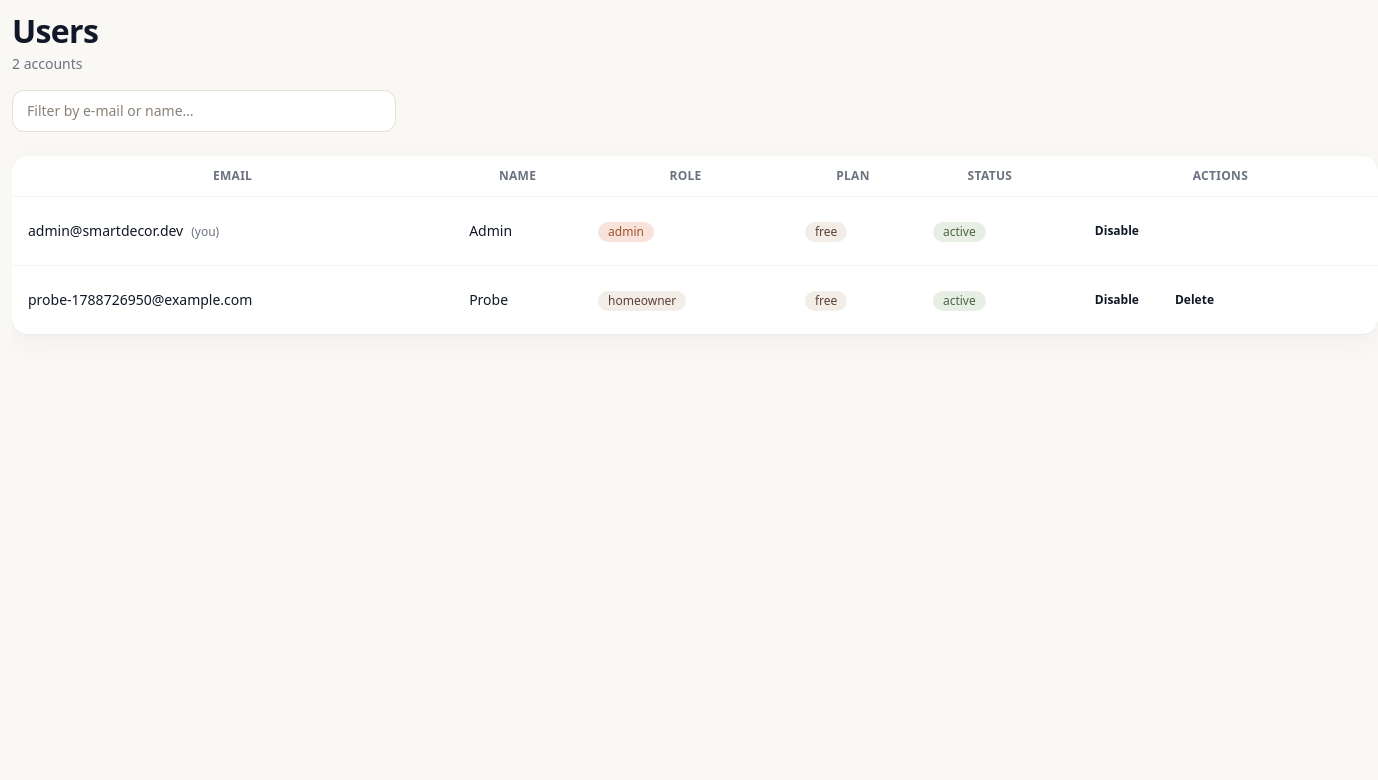
AdminUsersPage — delete › falls back to a generic message for unexpected failures
Click the button with aria-label "delete probe". click: (1194, 300)
box: [1159,278,1230,322]
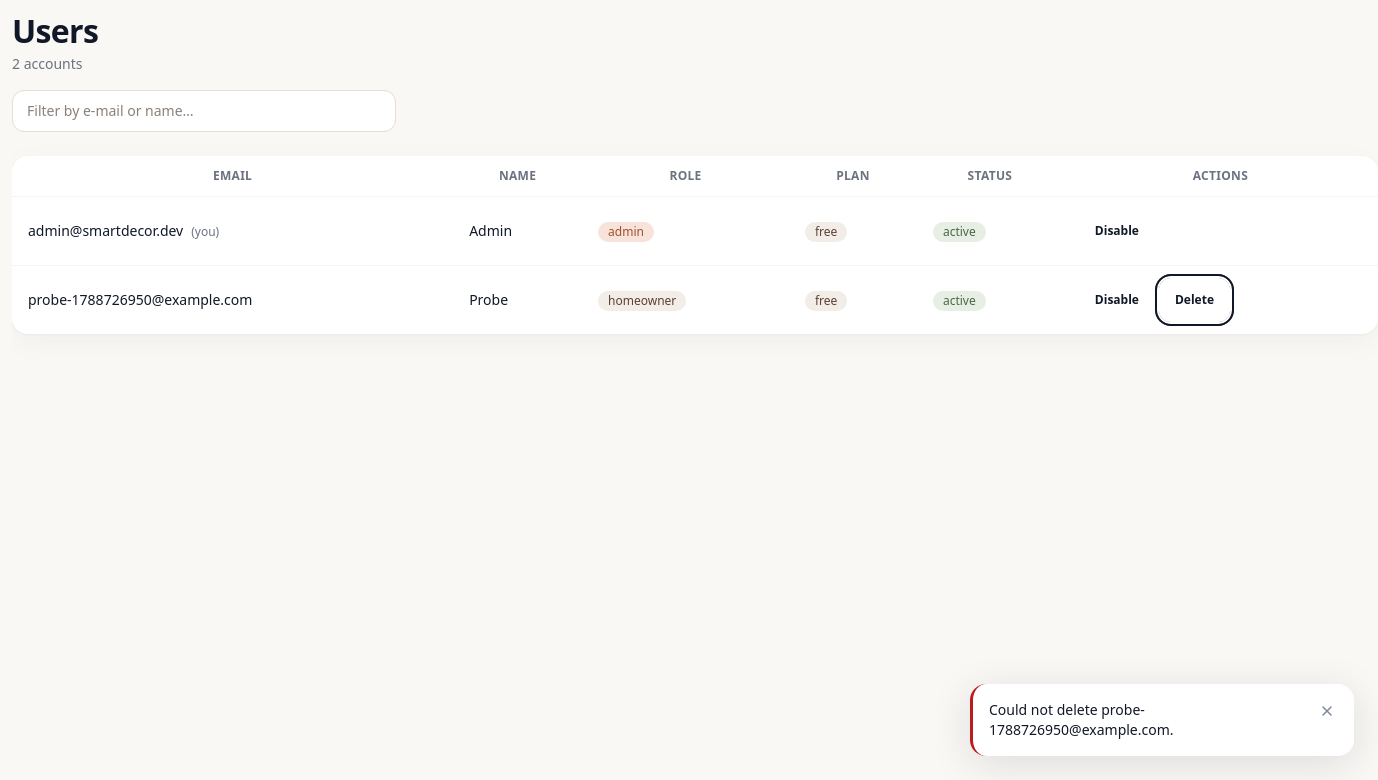
Expected: the text "Could not delete probe-1788726950@example.com." is shown, [989,700,1174,739]
